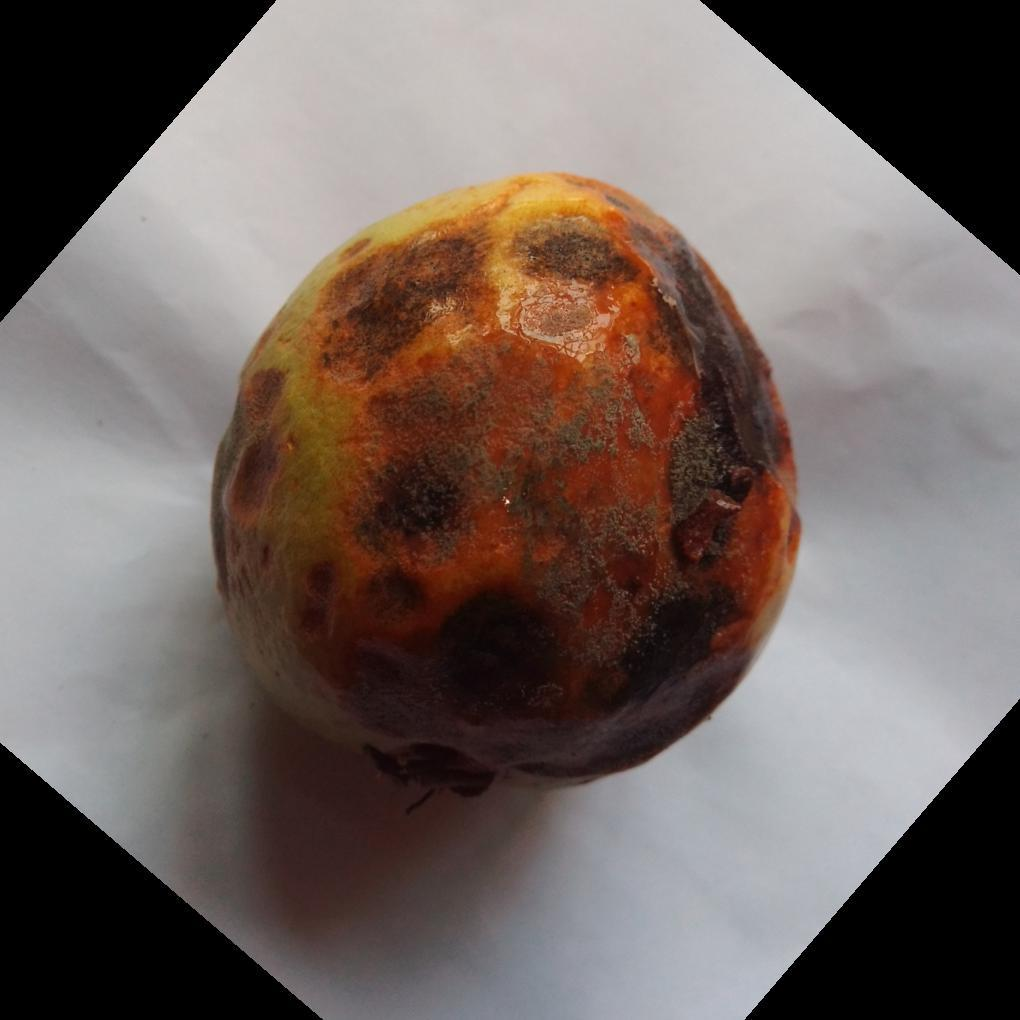FreshOrange: (206, 172, 803, 801)
